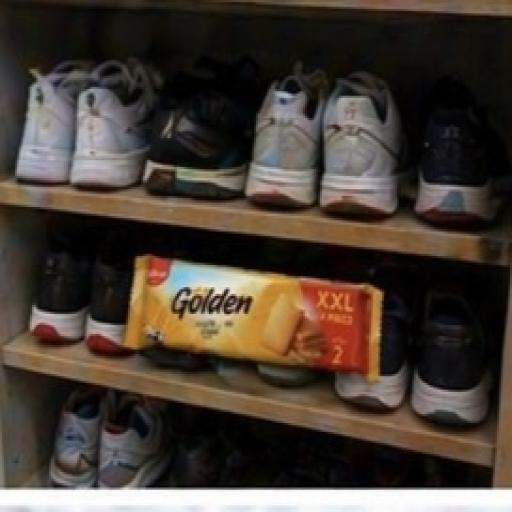golden: (112, 178, 428, 424)
